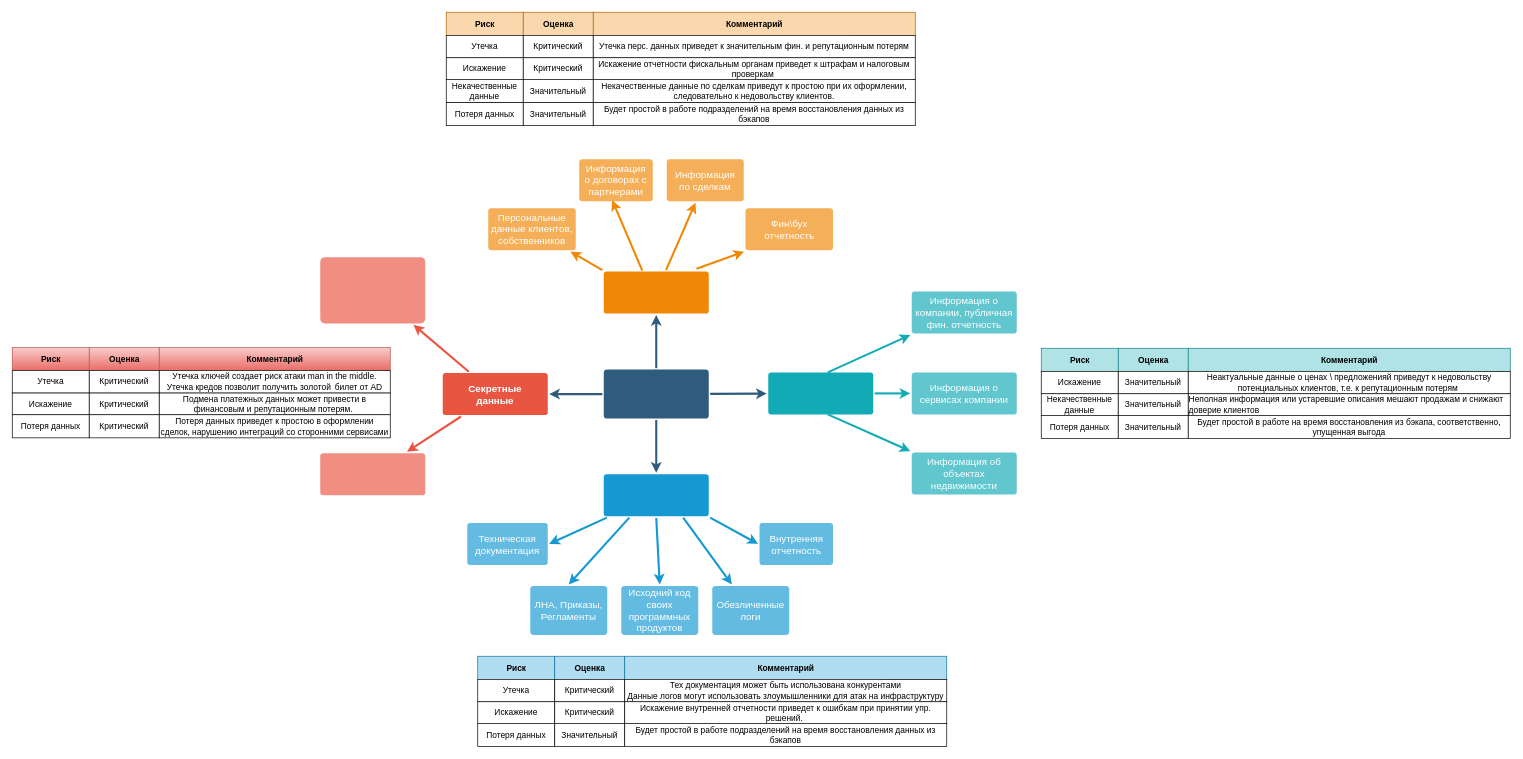
This 1523x759 diagram has some shape labels left out. The shapes that lost their labels are listed below. From the top down, each one's centre as x and y in pixels, then its label:
At point (372, 290): "Учетки корп. пользователей, креды сторонних сервисов, ключи шифрования".
At point (655, 292): "Конфиденциальные данные".
At point (655, 393): "Безопасность данных".
At point (820, 393): "Публичные данные".
At point (372, 474): "Платёжные данные".
At point (655, 495): "Внутренние данные".
